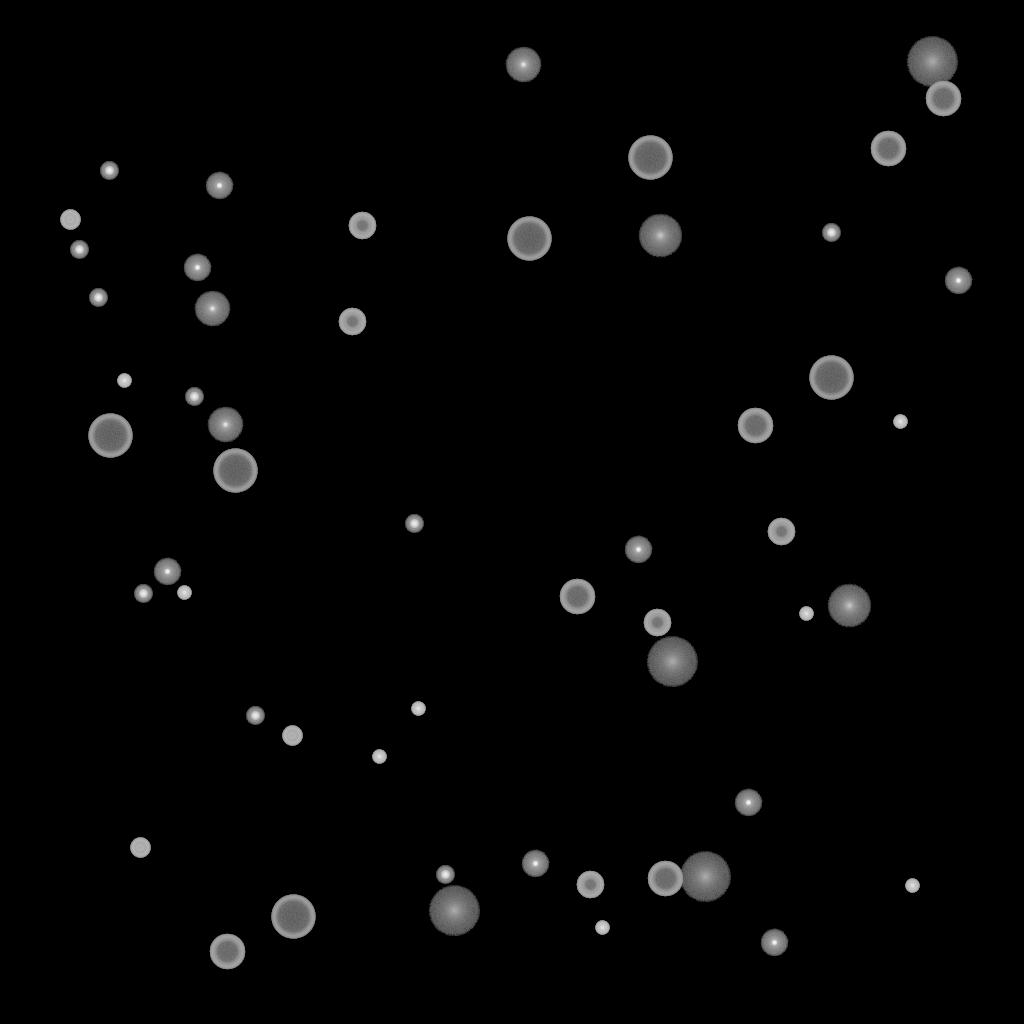depth:-10: (153, 558, 181, 586), (944, 267, 972, 295), (521, 850, 549, 878), (734, 789, 762, 817), (205, 172, 233, 200), (183, 254, 211, 282), (624, 536, 652, 564), (760, 929, 788, 957)
depth:-20: (405, 515, 423, 533), (185, 388, 203, 406), (822, 224, 840, 242), (70, 241, 88, 259), (436, 866, 454, 884), (246, 707, 264, 725), (134, 585, 152, 603), (89, 289, 107, 307), (100, 162, 118, 180)
depth:-30: (177, 586, 191, 600), (905, 879, 919, 893), (799, 607, 813, 621), (595, 921, 609, 935), (411, 702, 425, 716), (372, 750, 386, 764), (893, 415, 907, 429), (117, 374, 131, 388)
depth:-40: (130, 838, 150, 858), (60, 210, 80, 230), (282, 726, 302, 746)
depth:-50: (767, 518, 795, 546), (338, 308, 366, 336), (576, 871, 604, 899), (643, 609, 671, 637), (348, 212, 376, 240)
depth:-60: (870, 131, 906, 167), (647, 861, 683, 897), (209, 934, 245, 970), (925, 81, 961, 117), (737, 408, 773, 444), (559, 579, 595, 615)
depth:-70: (507, 217, 551, 261), (628, 136, 672, 180), (88, 414, 132, 458), (213, 449, 257, 493), (271, 895, 315, 939), (809, 356, 853, 400)
depth:0: (505, 47, 541, 83), (194, 291, 230, 327), (207, 407, 243, 443)
depth:10: (638, 214, 682, 258), (827, 584, 871, 628)
depth:20: (906, 37, 958, 87), (679, 852, 731, 902), (646, 637, 698, 687), (428, 886, 480, 936)
